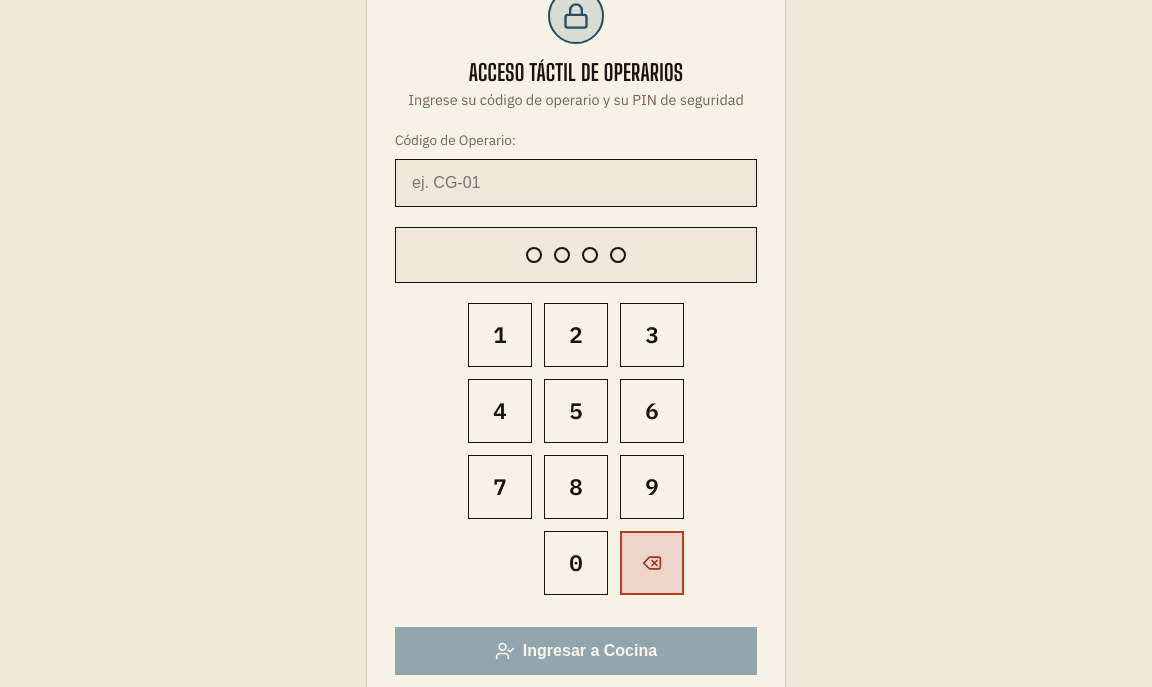
Test: TK-073-FE (US-015 Escenario 2): pantalla de aterrizaje tras el login según permisos › sin kitchen:recipe_prepare aterriza en Bodega
In the field labelled "Código de Operario:": x=576, y=183 [395,159,757,207], type "OP-01"
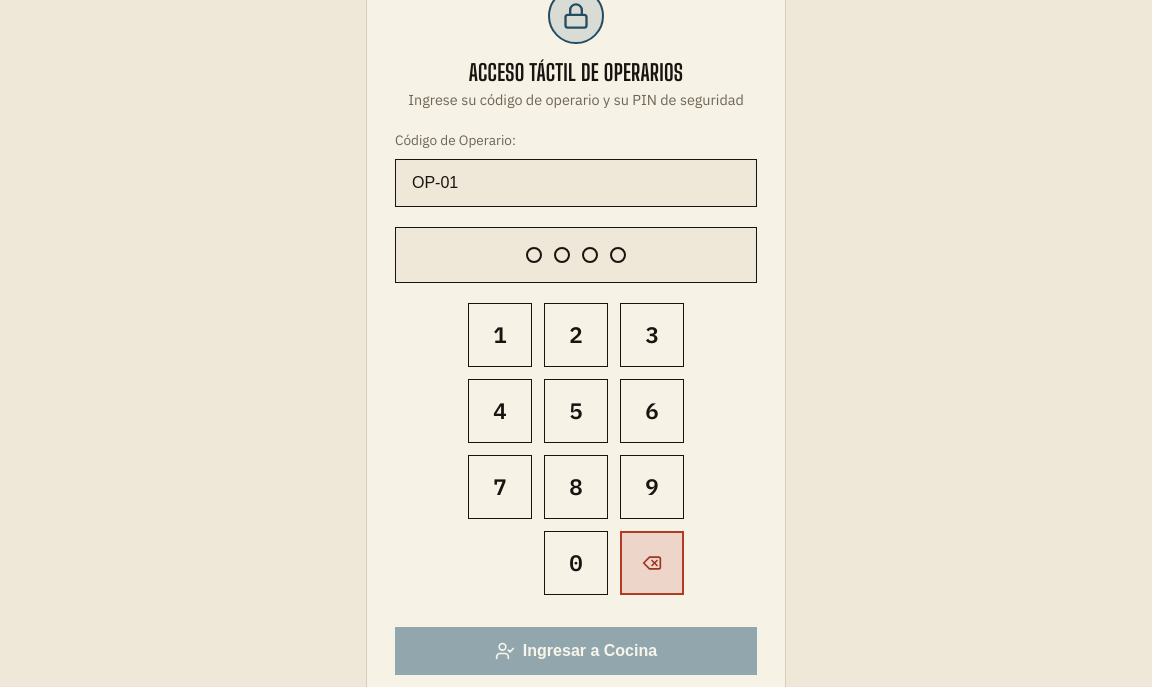
Click the button "1": x=500, y=335 [468,303,532,367]
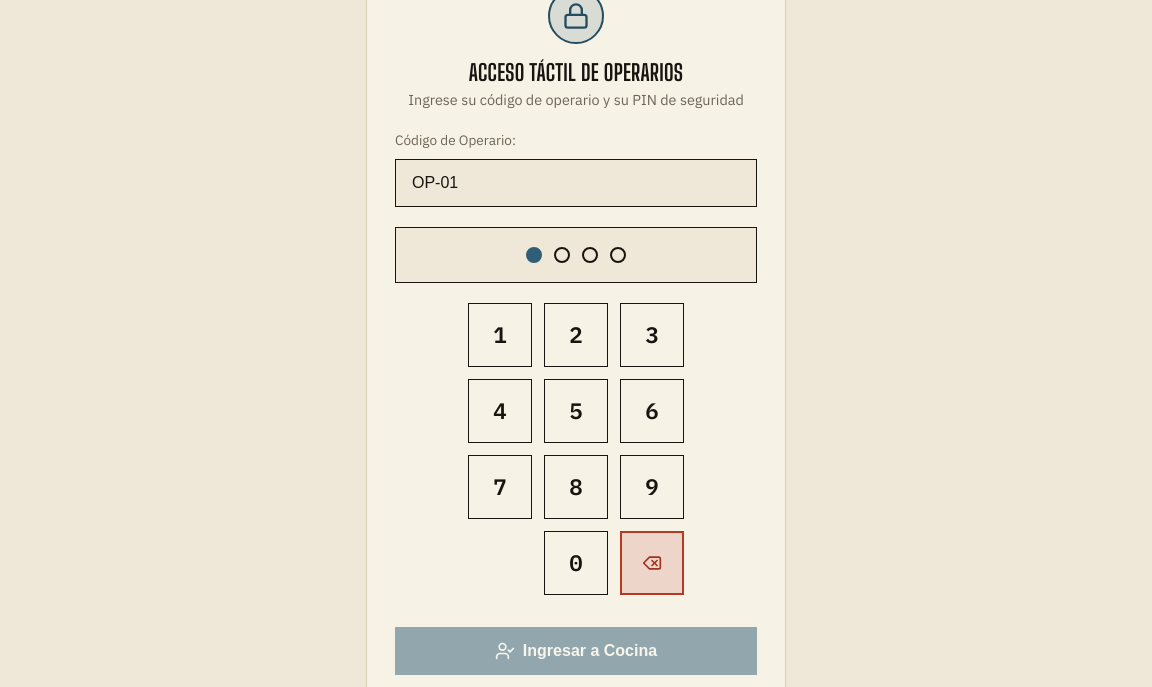
Click the button "2": x=576, y=335 [544,303,608,367]
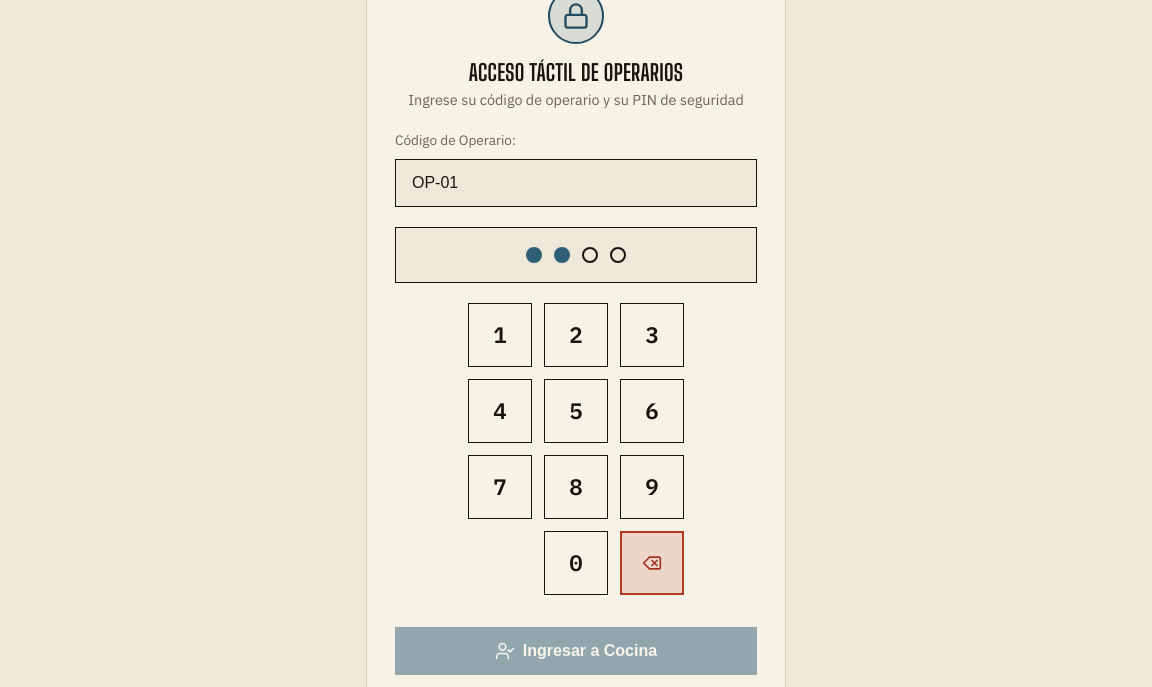
Click the button "3": x=652, y=335 [620,303,684,367]
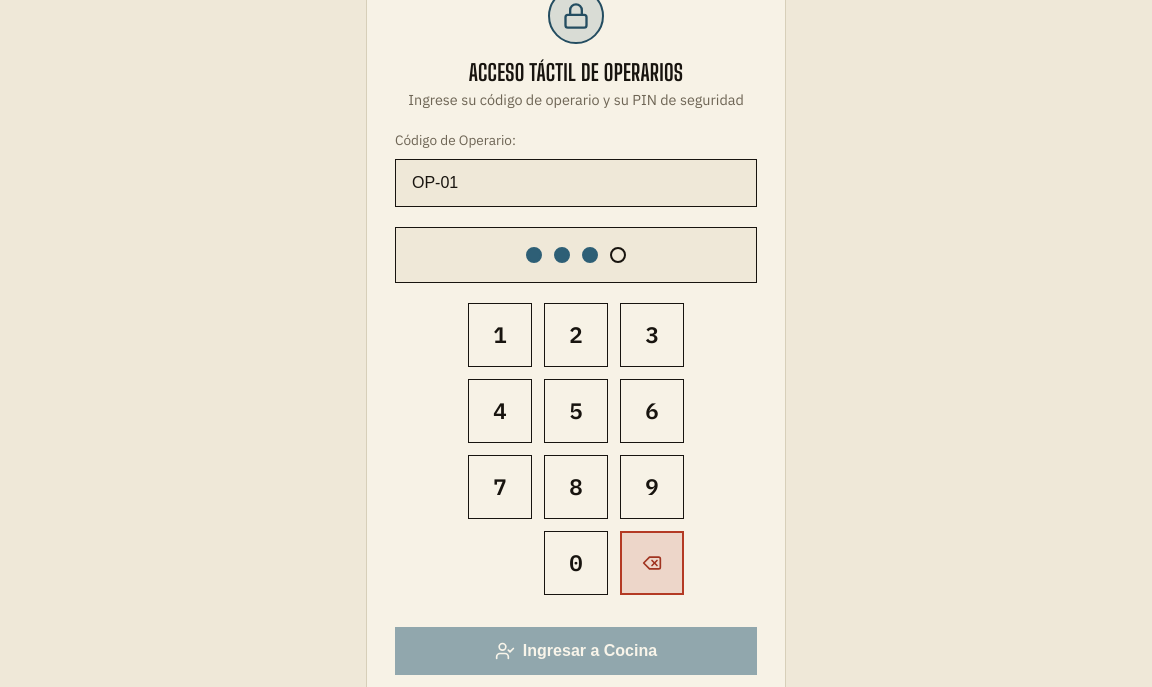
Click the button "4": x=500, y=411 [468,379,532,443]
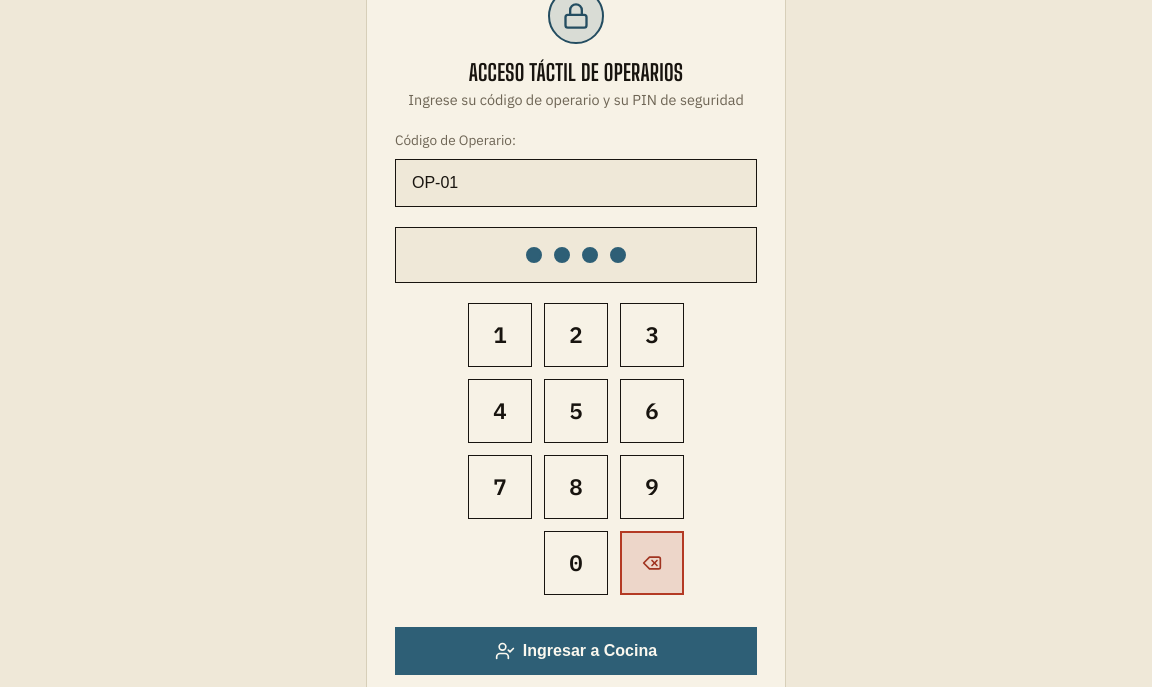
Click the button "Ingresar a Cocina": x=576, y=651 [395,627,757,675]
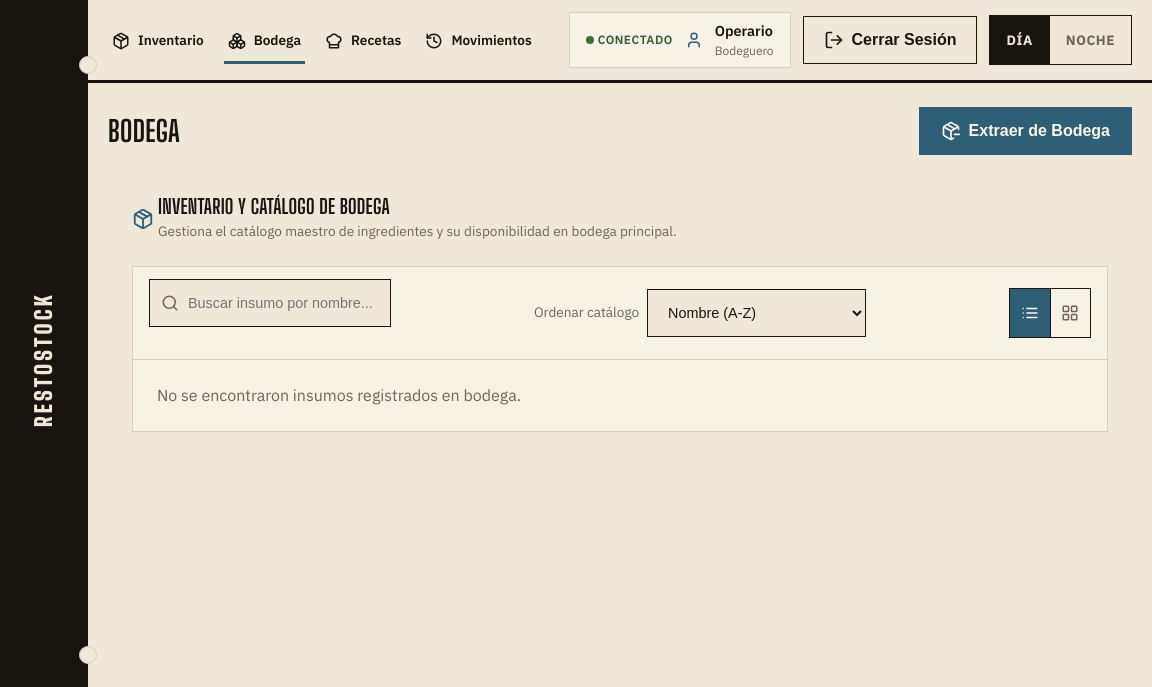
Check: the heading "Bodega" is shown, box [108,115,180,148]
